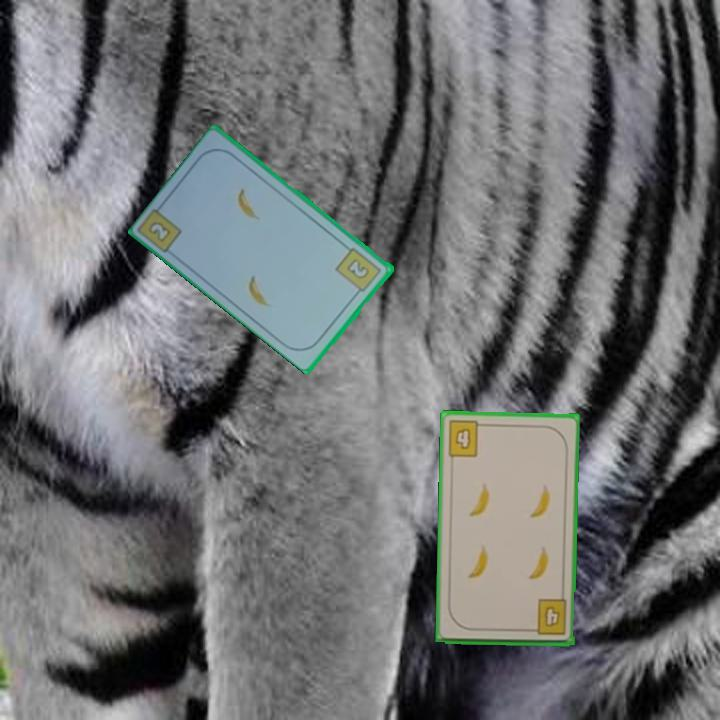2b: (332, 244, 384, 298), (147, 217, 174, 245)
4b: (444, 417, 488, 460), (525, 596, 569, 638)
